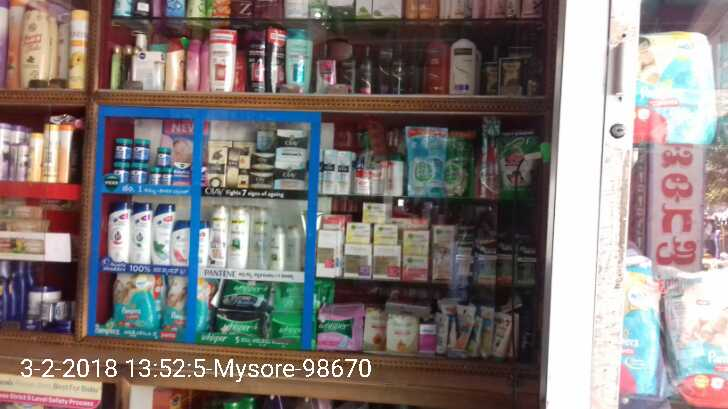beauty: (248, 205, 271, 269), (108, 202, 132, 261), (274, 127, 307, 169), (208, 202, 229, 267), (151, 201, 171, 265), (229, 202, 247, 273), (133, 203, 151, 267), (205, 144, 227, 187), (173, 220, 189, 264), (287, 227, 301, 274), (274, 169, 305, 190), (270, 229, 286, 269), (247, 169, 274, 188), (250, 150, 274, 171)
pharmacy: (111, 273, 161, 328), (165, 276, 210, 332), (317, 307, 366, 347), (270, 309, 315, 348), (221, 281, 269, 309), (277, 281, 325, 307), (214, 311, 259, 337), (130, 135, 152, 163), (112, 136, 130, 161), (173, 161, 190, 185), (111, 161, 128, 184), (130, 163, 147, 185), (155, 142, 170, 166), (148, 167, 161, 185), (161, 166, 172, 186)
